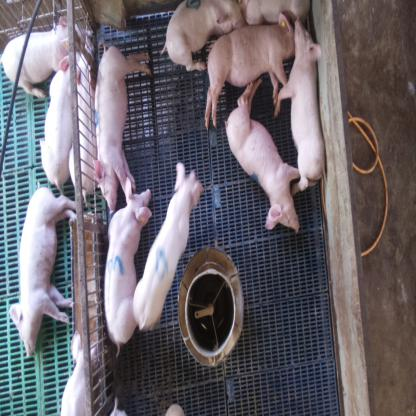3: (106, 254, 125, 276)
N-A: (155, 247, 168, 281)
